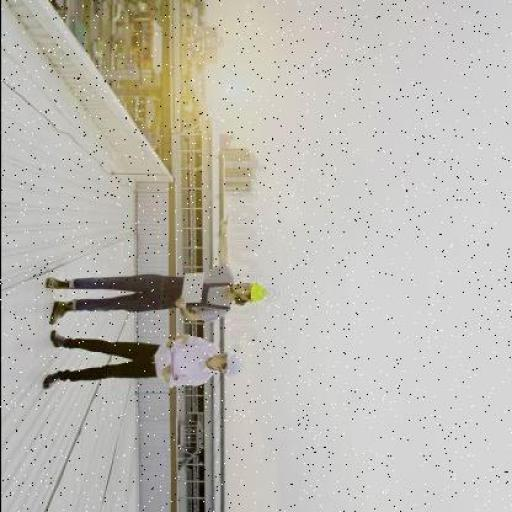person: (31, 260, 269, 327), (38, 325, 244, 393)
safety_shoe: (48, 301, 74, 324), (47, 329, 70, 348), (43, 371, 63, 391), (43, 277, 65, 292)
